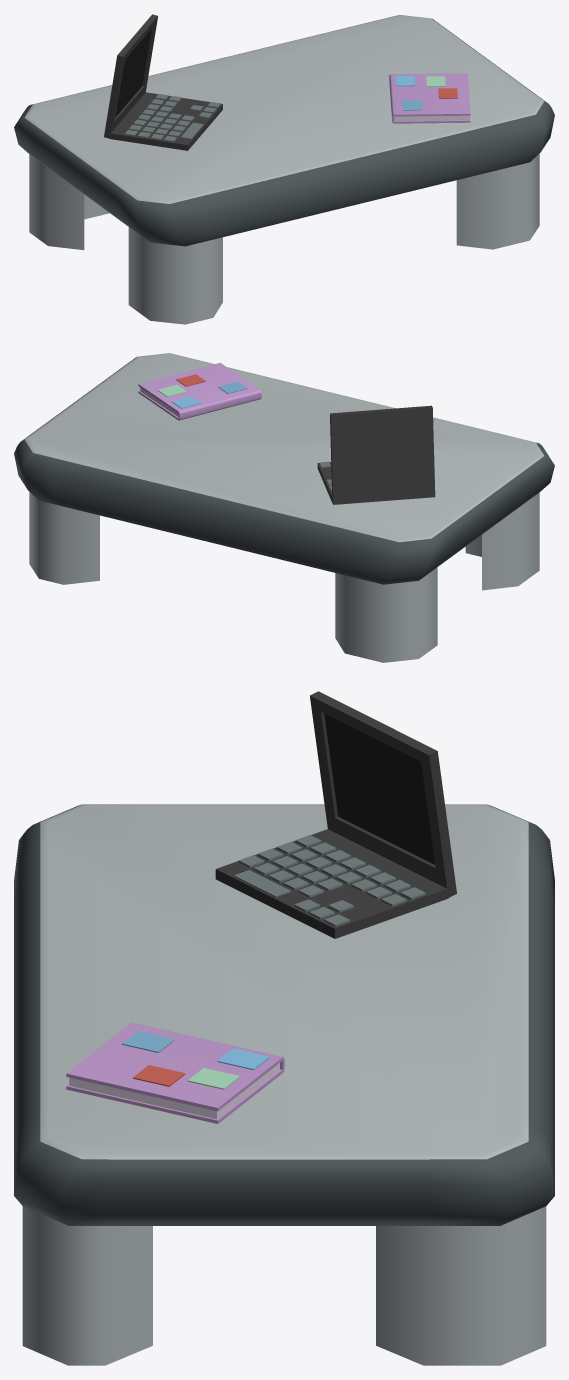
Rendered from Coffee-Table.fbx.
3 renders of one model, top to bottom at view 1: azimuth 30°, elevation 25°; view 2: azimuth 150°, elevation 25°; view 3: azimuth 270°, elevation 25°, orthographic. The views are drawn at different scales.
Parts seen in each view (by area): view 1: Coffee-Table, Lapotop, Magazine; view 2: Coffee-Table, Lapotop, Magazine; view 3: Coffee-Table, Lapotop, Magazine.
Part boxes in pixels (left/top/right/bottom): Coffee-Table: left=14, top=15, right=554, bottom=324; Lapotop: left=104, top=14, right=222, bottom=150; Magazine: left=389, top=73, right=470, bottom=123; Coffee-Table: left=14, top=353, right=554, bottom=662; Lapotop: left=317, top=405, right=435, bottom=504; Magazine: left=138, top=362, right=261, bottom=420; Coffee-Table: left=14, top=804, right=554, bottom=1365; Lapotop: left=215, top=691, right=456, bottom=938; Magazine: left=66, top=1022, right=284, bottom=1123.
Size of the model in its own units: 1.65 by 0.7743 by 1.03.
